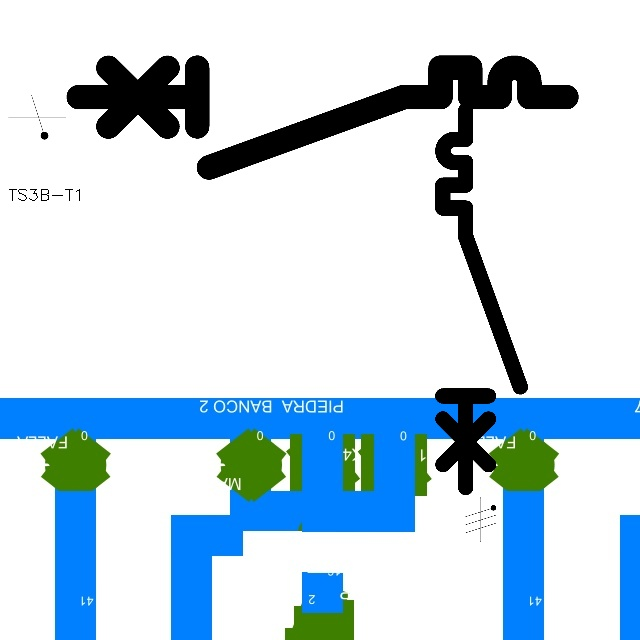interruptor_termomagnetico: (66, 55, 579, 180), (433, 101, 530, 497)
